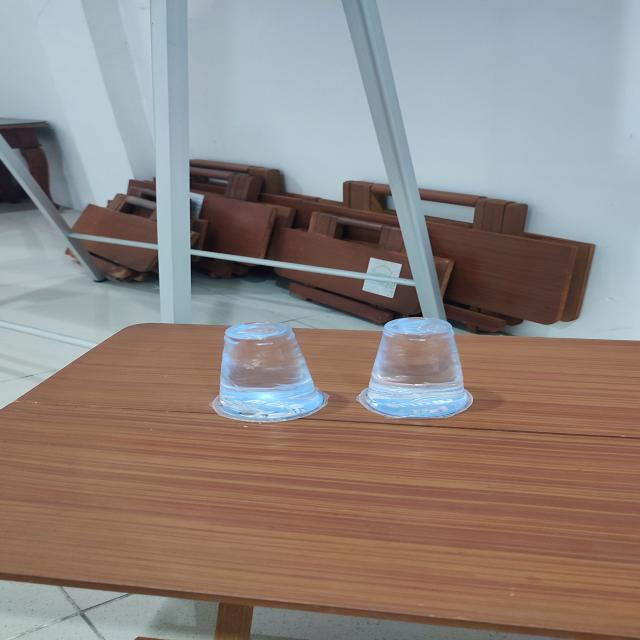air gelas: (205, 314, 340, 427), (340, 313, 483, 417)
